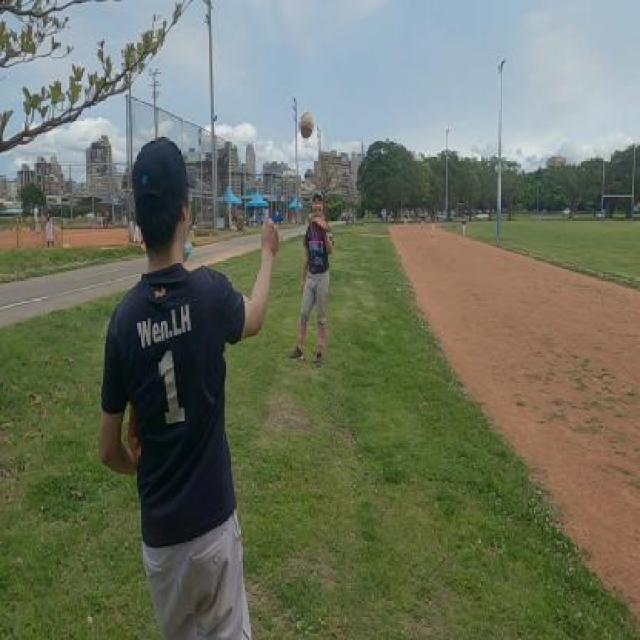baseball: (298, 112, 314, 140)
